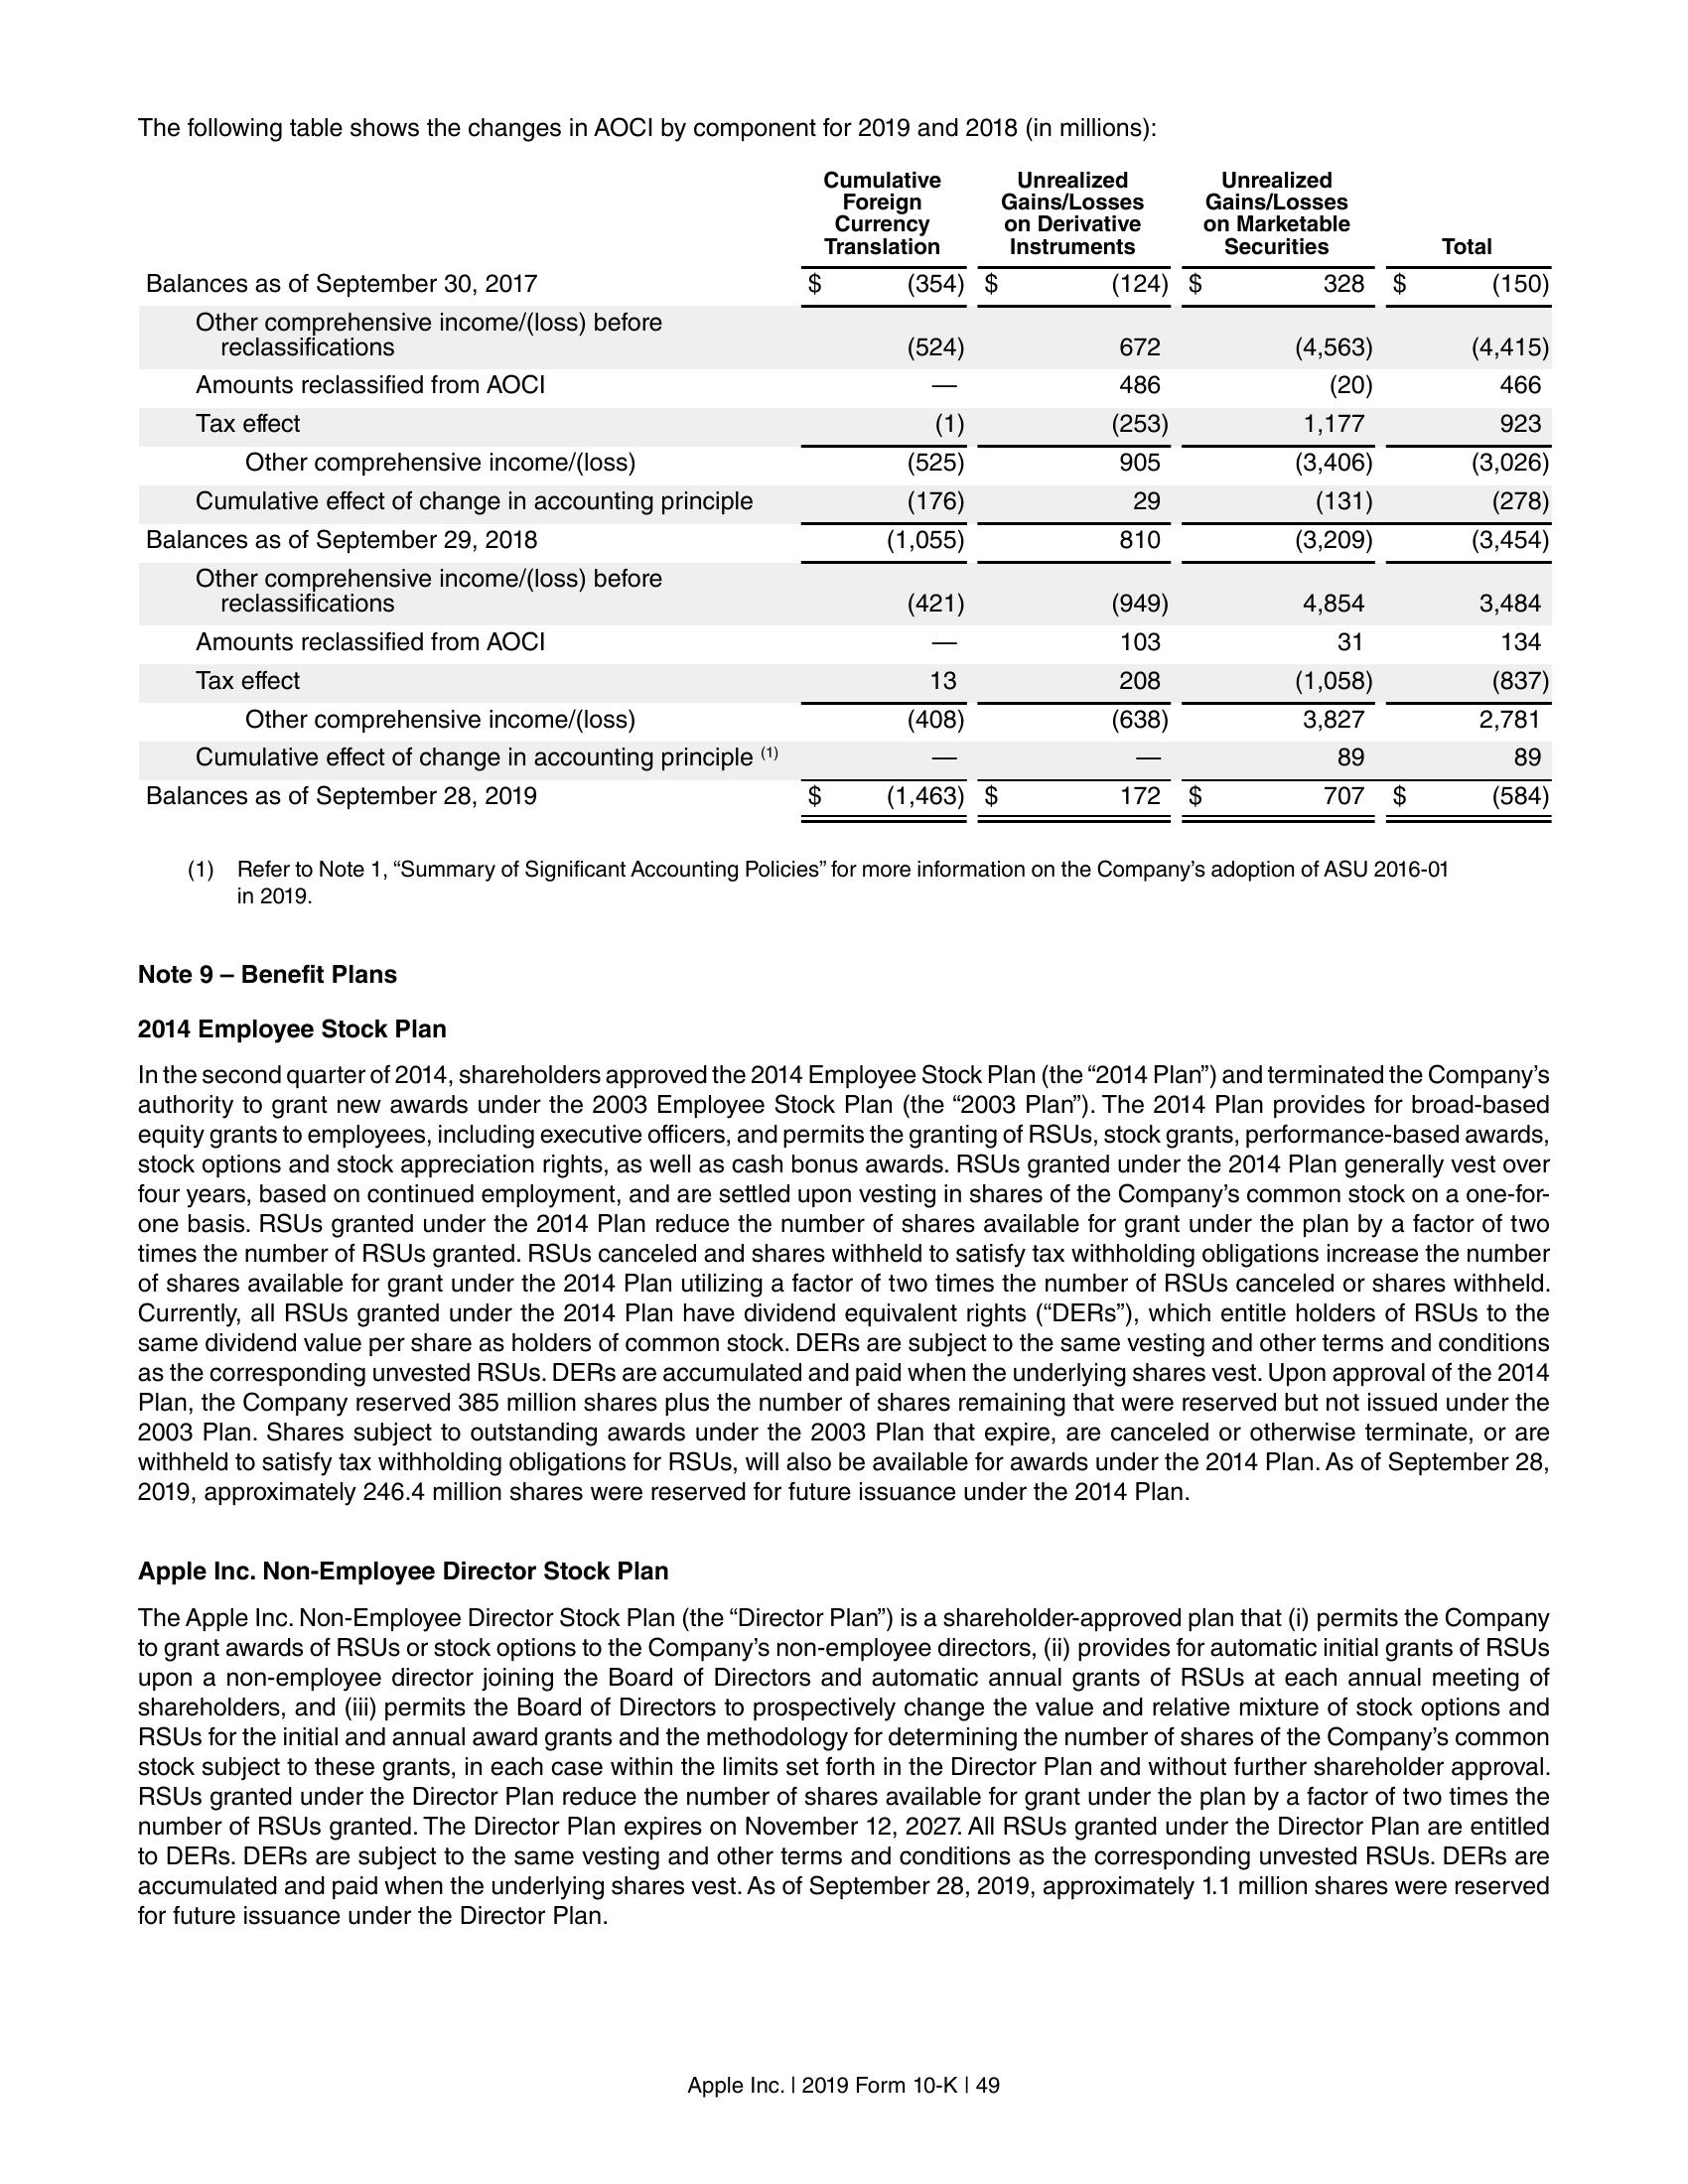table: (138, 167, 1560, 826)
